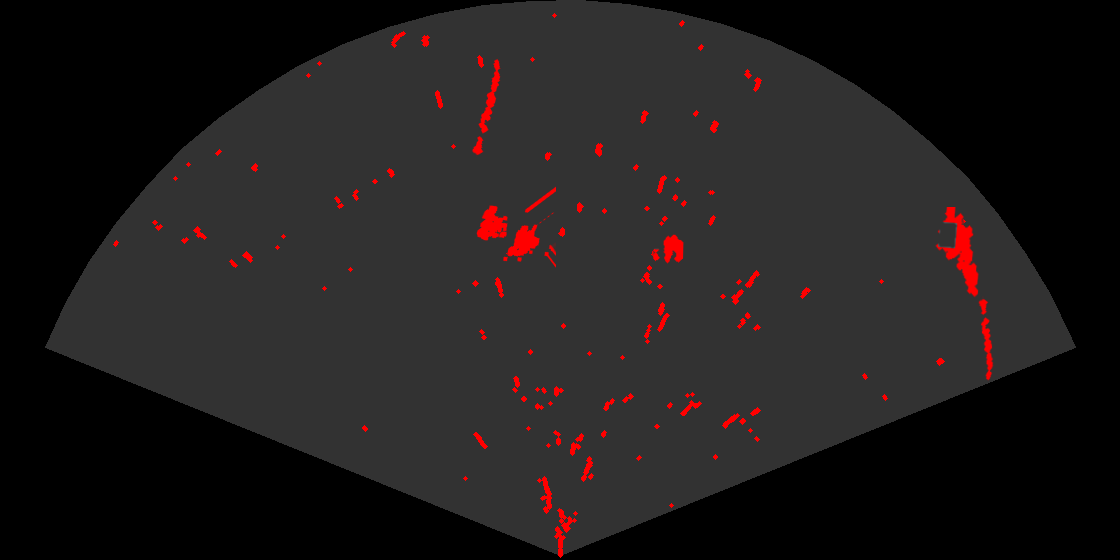ball: (652, 233, 685, 265)
cage: (475, 185, 556, 269)
chain: (471, 58, 502, 158), (977, 296, 995, 382)
frogman: (934, 207, 980, 298)
